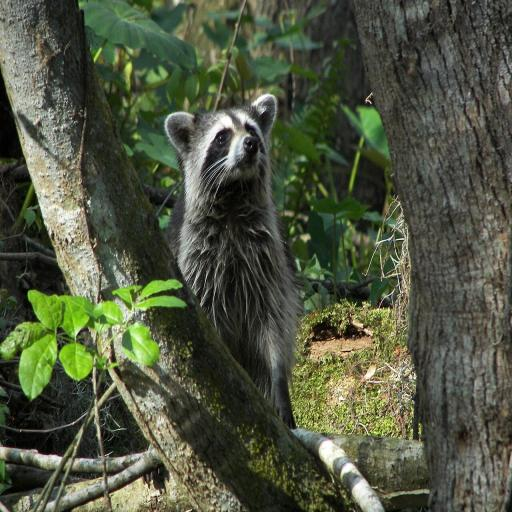raccoon: (166, 95, 301, 428)
